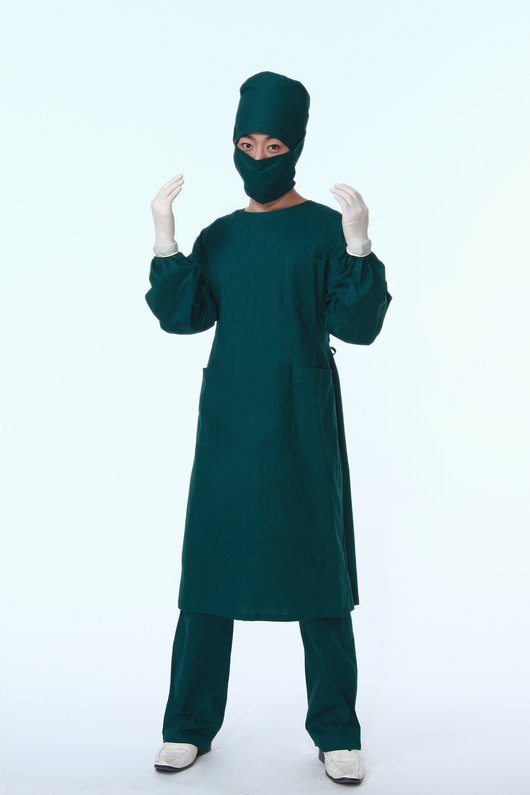face_mask: (234, 125, 291, 201)
